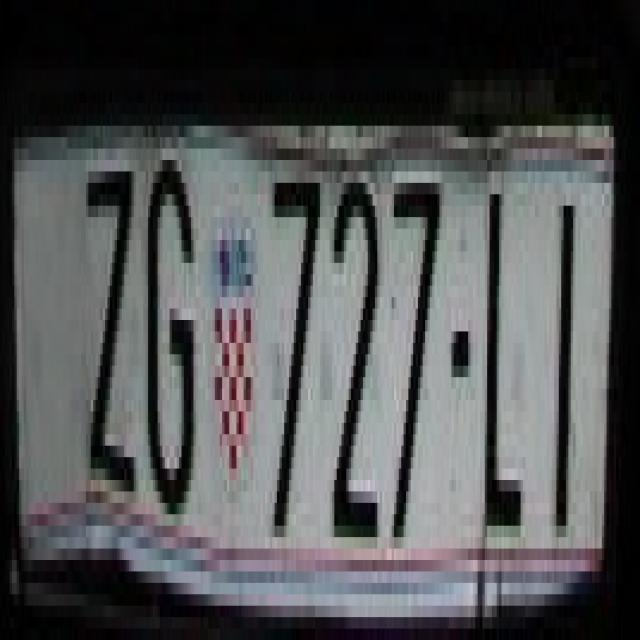2: (327, 137, 377, 549)
7: (268, 114, 316, 549), (390, 160, 440, 560)
G: (146, 149, 200, 514)
L: (478, 183, 526, 548)
Z: (93, 160, 134, 491)
